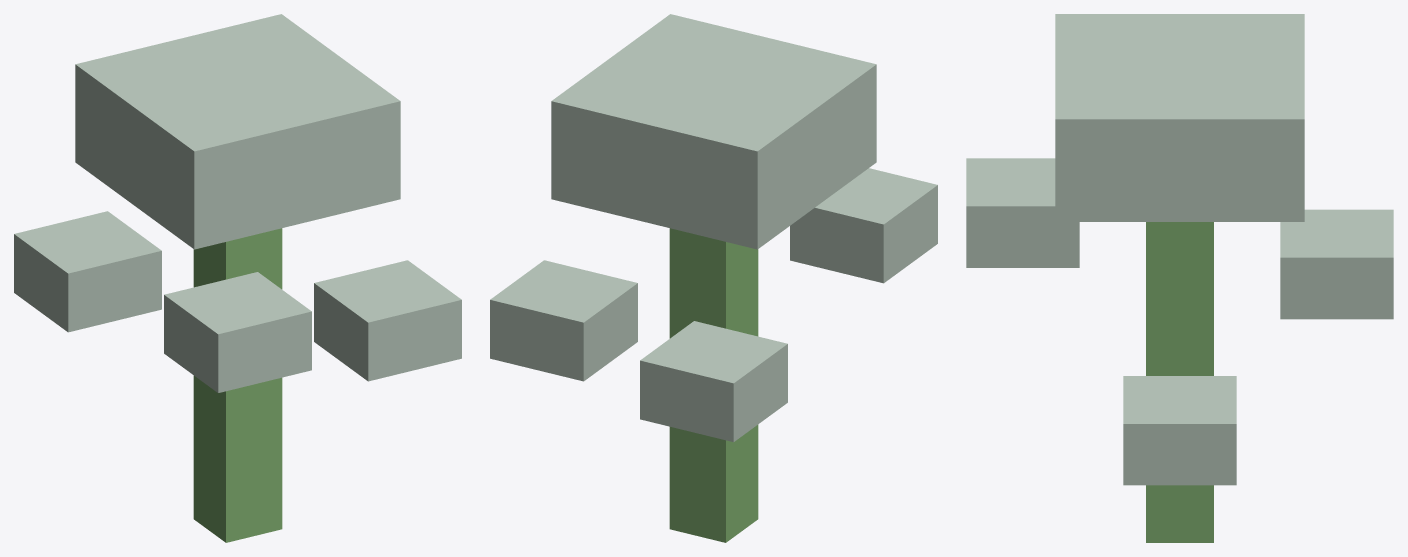
File: Prop_DS_Herb_ArchiveSage_S2_V1.glb
The picture shows the model from 3 angles, left to right: view 1: azimuth 30°, elevation 25°; view 2: azimuth 150°, elevation 25°; view 3: azimuth 270°, elevation 25°; orthographic projection. The views are drawn at different scales.
Parts seen in each view (by area): view 1: Prop_DS_Herb_ArchiveSage_S2_V1; view 2: Prop_DS_Herb_ArchiveSage_S2_V1; view 3: Prop_DS_Herb_ArchiveSage_S2_V1.
Part boxes in pixels (<box>): Prop_DS_Herb_ArchiveSage_S2_V1: <box>14,14,461,542</box>; Prop_DS_Herb_ArchiveSage_S2_V1: <box>490,14,937,542</box>; Prop_DS_Herb_ArchiveSage_S2_V1: <box>966,14,1393,542</box>.
Bounding box in the file's own units: 0.34 × 0.45 × 0.3771.
